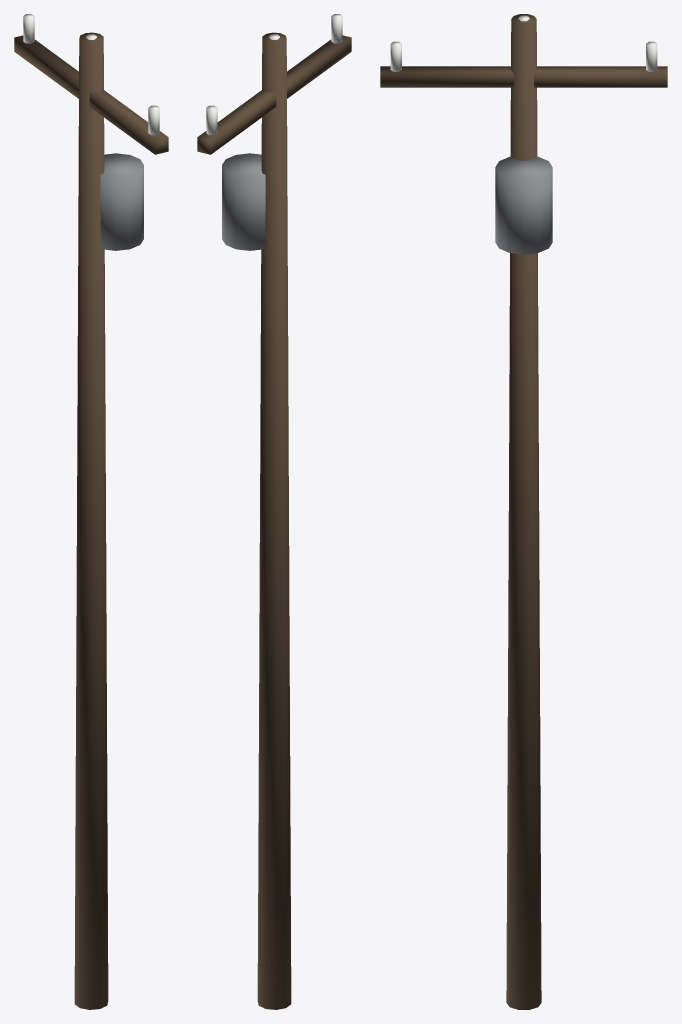
Rendered from m_utility_pole.fbx.
The picture shows the model from 3 angles, left to right: view 1: azimuth 30°, elevation 25°; view 2: azimuth 150°, elevation 25°; view 3: azimuth 270°, elevation 25°; orthographic projection.
Parts seen in each view (by area): view 1: m_utility_pole; view 2: m_utility_pole; view 3: m_utility_pole.
Part boxes in pixels (x1=…): m_utility_pole: x1=14, y1=14, x2=168, y2=1009; m_utility_pole: x1=197, y1=14, x2=351, y2=1009; m_utility_pole: x1=380, y1=14, x2=667, y2=1009.
Bounding box in the file's own units: 232 × 3405 × 900.
